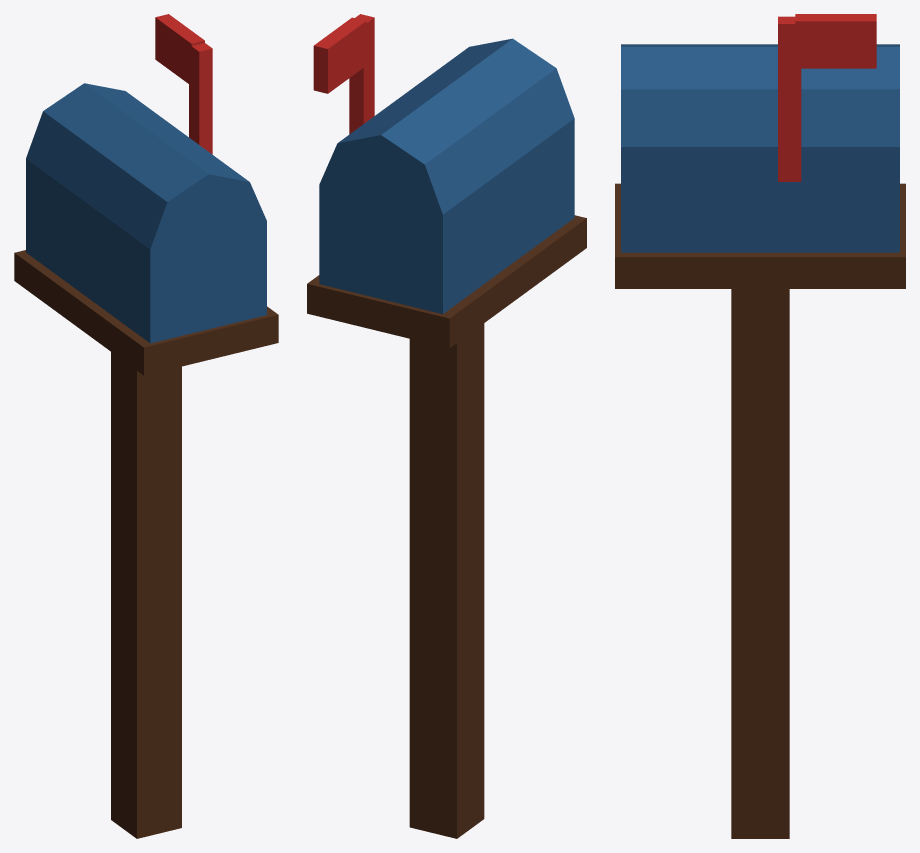
The model's file is Prop_Mailbox.fbx.
3 renders of one model, left to right at view 1: azimuth 30°, elevation 25°; view 2: azimuth 150°, elevation 25°; view 3: azimuth 270°, elevation 25°, orthographic. The views are drawn at different scales.
Visible parts, largest first — view 1: Prop_Mailbox; view 2: Prop_Mailbox; view 3: Prop_Mailbox.
Boxes of the visible parts, left/top/right/bottom form: Prop_Mailbox: left=14, top=14, right=278, bottom=838; Prop_Mailbox: left=307, top=14, right=586, bottom=838; Prop_Mailbox: left=615, top=14, right=905, bottom=838.
Bounding box in the file's own units: 0.315 × 1.61 × 0.5.
